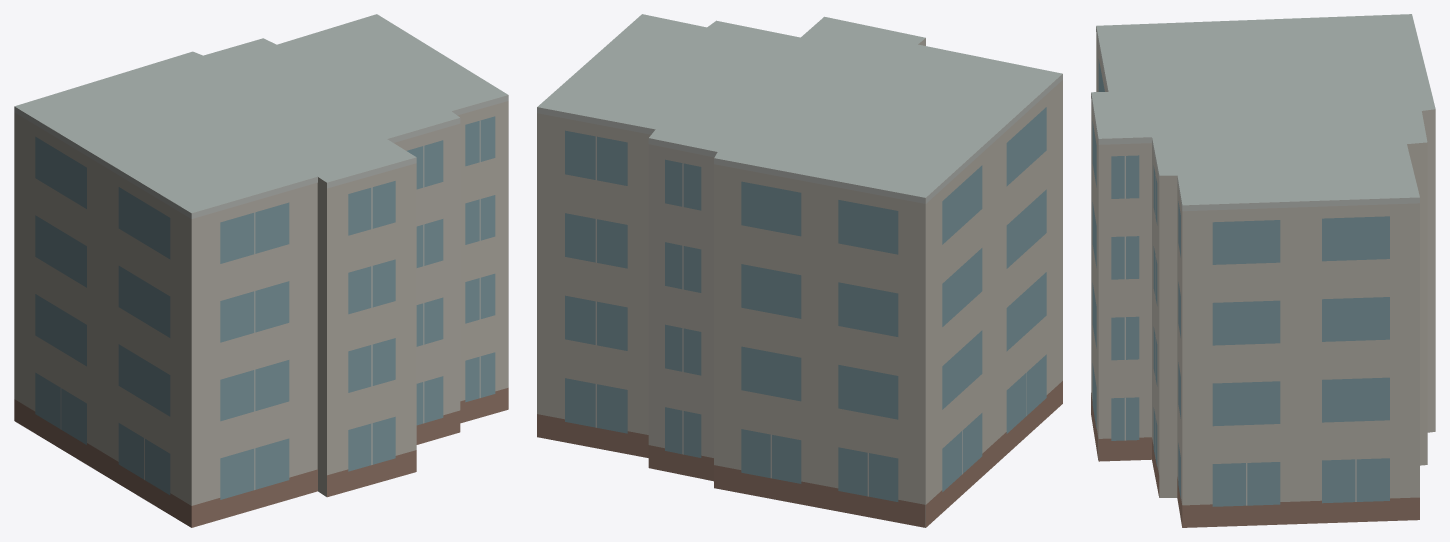
Rendered from survey-upis-32555876.glb.
3 renders of one model, left to right at view 1: azimuth 30°, elevation 25°; view 2: azimuth 150°, elevation 25°; view 3: azimuth 270°, elevation 25°, orthographic. The views are drawn at different scales.
Parts seen in each view (by area): view 1: survey-upis-32555876.tmp; view 2: survey-upis-32555876.tmp; view 3: survey-upis-32555876.tmp.
Part boxes in pixels (bbox=[...]): survey-upis-32555876.tmp: bbox=[14, 14, 508, 527]; survey-upis-32555876.tmp: bbox=[537, 14, 1062, 527]; survey-upis-32555876.tmp: bbox=[1091, 14, 1435, 527].
Bounding box in the file's own units: 16.8 × 13.2 × 12.79.
